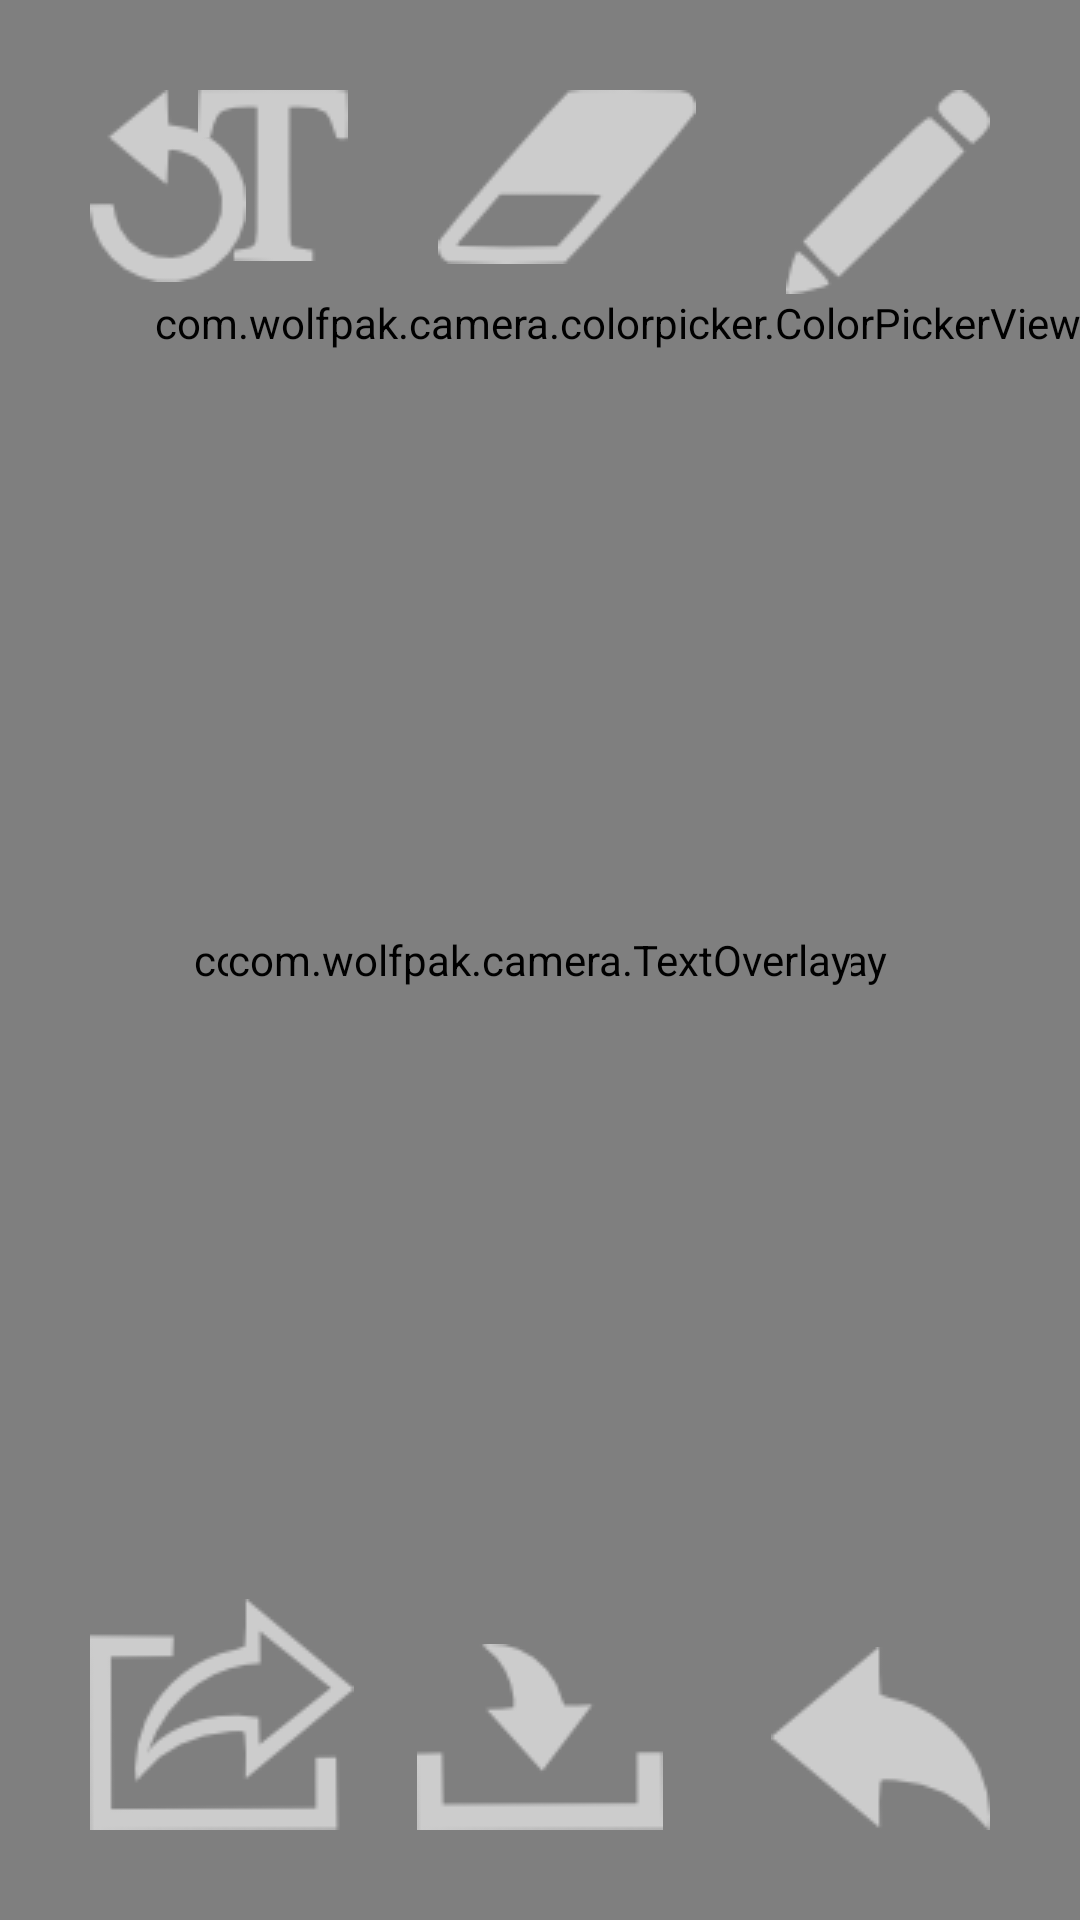

Locate icon controls on the screen. Image size 1080x1920, boxes as (x1, y1, x2, y2).
download: (417, 1644, 663, 1830)
draw: (786, 90, 990, 294)
text: (198, 90, 348, 261)
undo: (90, 90, 246, 282)
